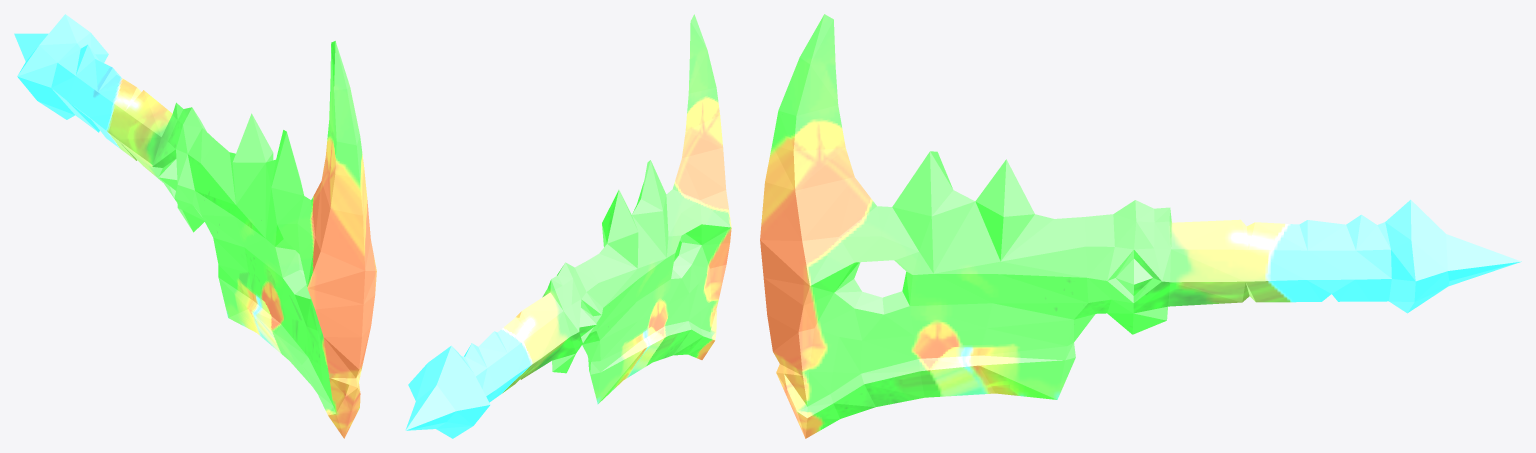
Rendered from GoblineSword.fbx.
3 renders of one model, left to right at view 1: azimuth 30°, elevation 25°; view 2: azimuth 150°, elevation 25°; view 3: azimuth 270°, elevation 25°, orthographic. The views are drawn at different scales.
Parts seen in each view (by area): view 1: Goblin_Sword_Mesh.mo; view 2: Goblin_Sword_Mesh.mo; view 3: Goblin_Sword_Mesh.mo.
Boxes of the visible parts, bbox=[...] form: Goblin_Sword_Mesh.mo: bbox=[14, 14, 376, 438]; Goblin_Sword_Mesh.mo: bbox=[405, 14, 731, 438]; Goblin_Sword_Mesh.mo: bbox=[760, 14, 1521, 438].
Size of the model in its own units: 14.27 by 58.25 by 94.65.
